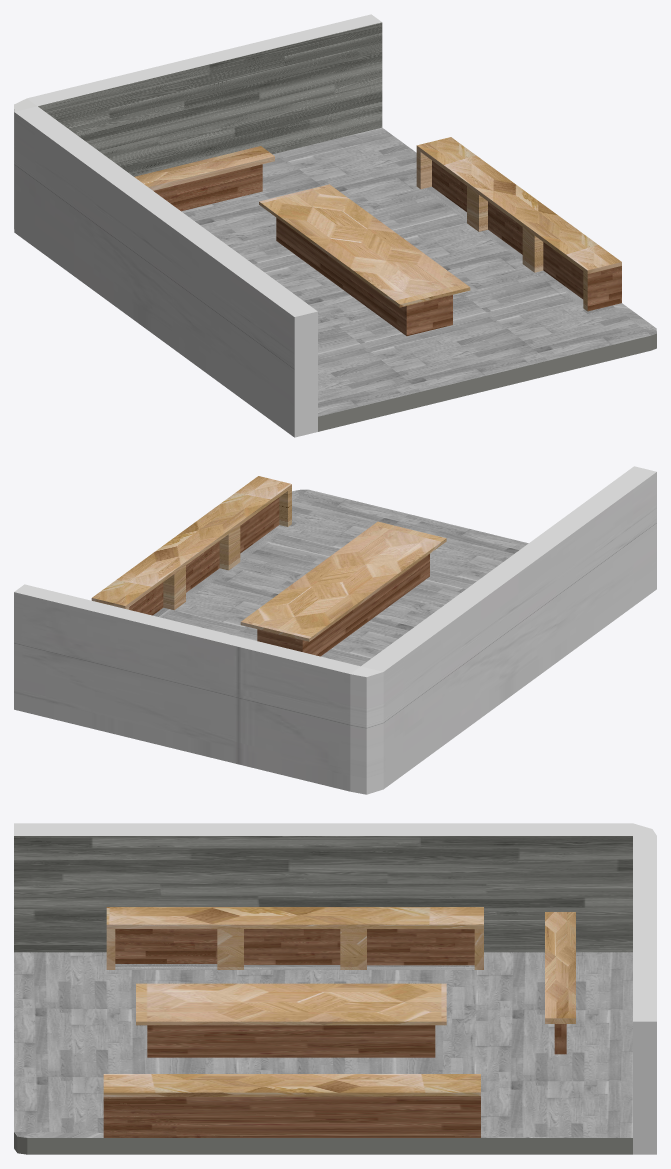
Rendered from store3d.glb.
3 renders of one model, top to bottom at view 1: azimuth 30°, elevation 25°; view 2: azimuth 150°, elevation 25°; view 3: azimuth 270°, elevation 25°, orthographic. The views are drawn at different scales.
Visible parts, largest first — view 1: Cube; view 2: Cube; view 3: Cube.
Boxes of the visible parts, left/top/right/bottom form: Cube: left=14, top=14, right=656, bottom=437; Cube: left=14, top=466, right=656, bottom=794; Cube: left=14, top=823, right=656, bottom=1154.
Bounding box in the file's own units: 21.36 × 6.74 × 29.27.
Materials: 5 (5 with a texture image).
